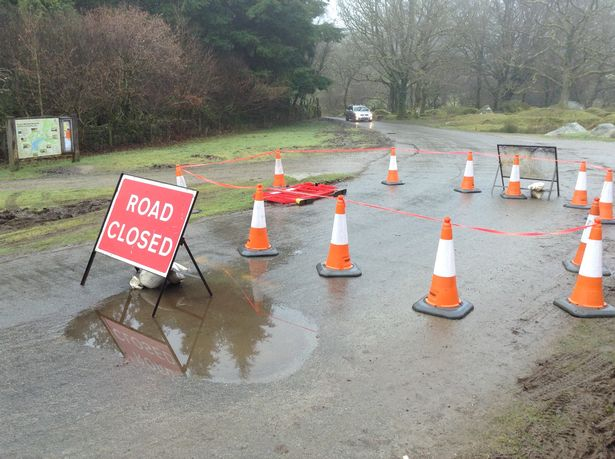cone: (409, 216, 482, 327), (553, 211, 615, 320), (305, 191, 367, 282), (558, 198, 614, 280), (235, 183, 284, 264), (585, 168, 615, 229), (501, 153, 529, 201), (376, 146, 408, 188), (453, 153, 483, 197), (568, 159, 592, 208), (265, 150, 291, 192)
